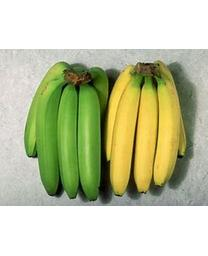banana: (23, 60, 109, 200), (104, 60, 186, 196)
